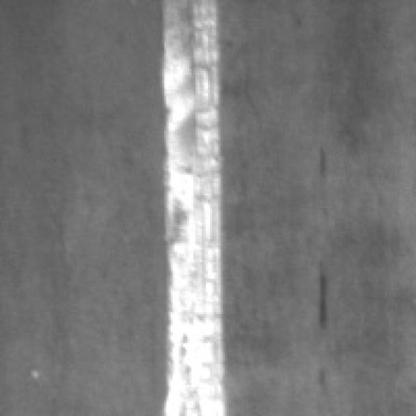inclusion: (310, 256, 339, 339)
scratches: (158, 0, 233, 408)
